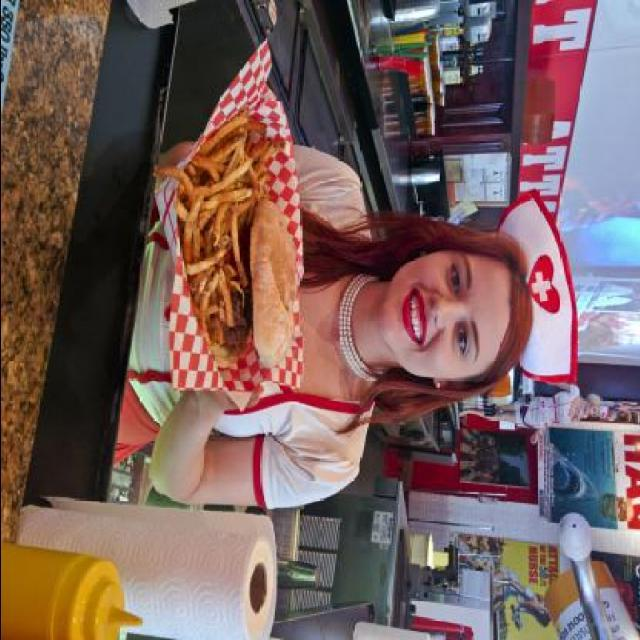French fries: (180, 94, 292, 388)
